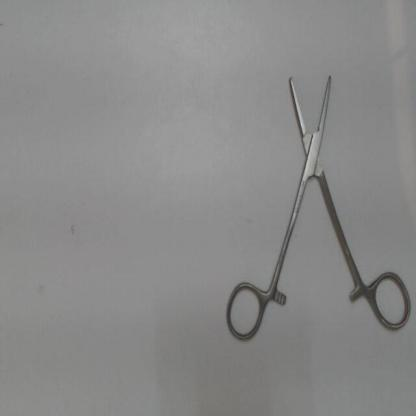Mayo Needle Holder: (220, 58, 414, 344)
